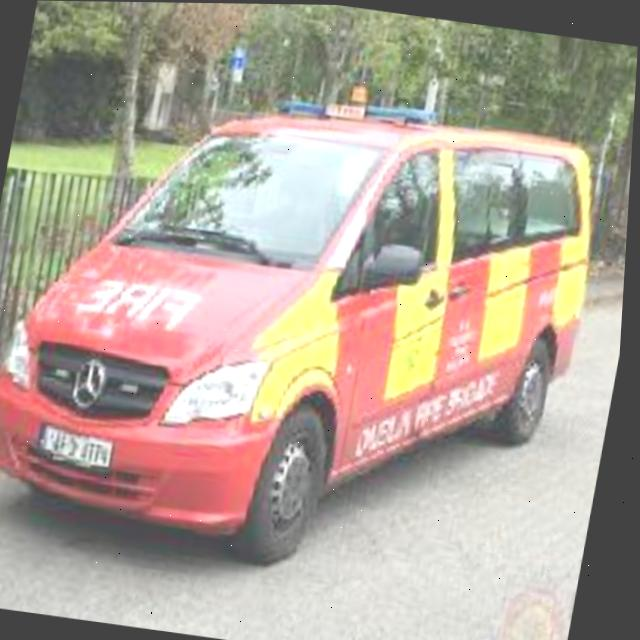emergency: (0, 61, 620, 574)
